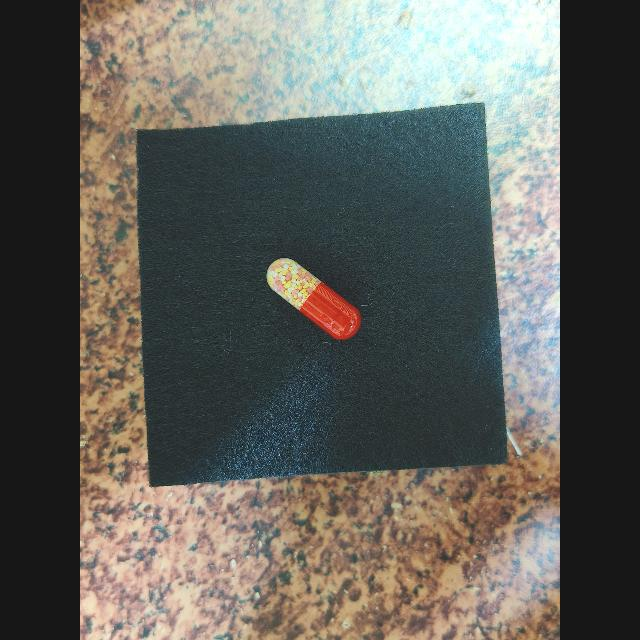Intact Capsule: (266, 258, 361, 340)
